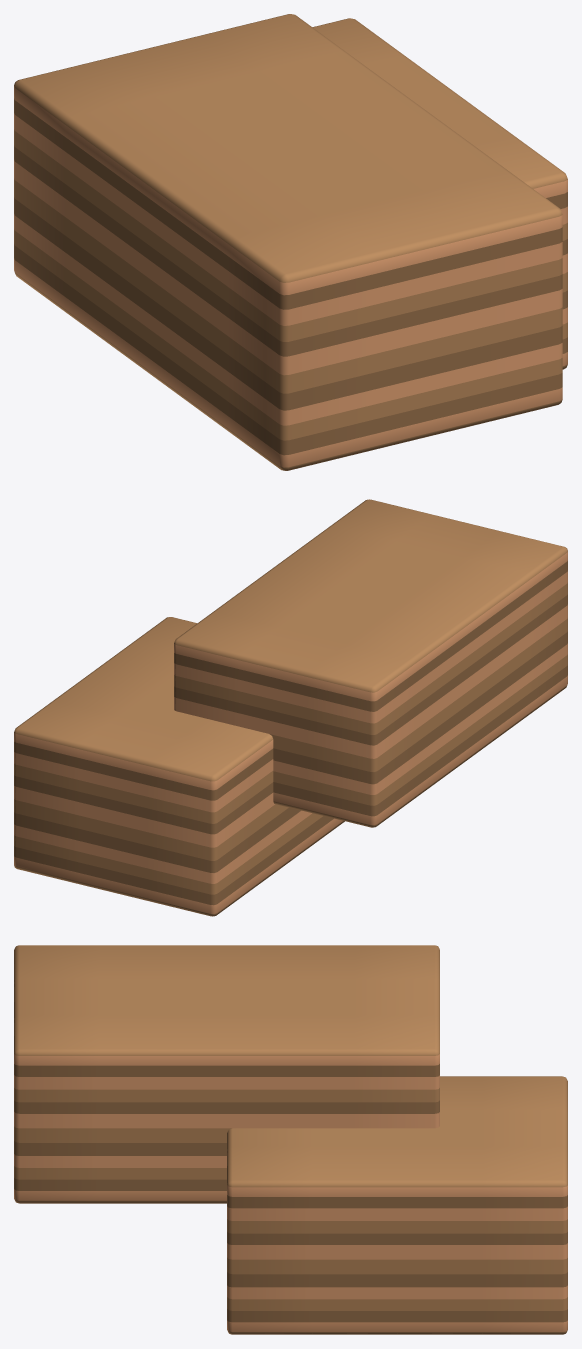
The model's file is Cube_Grass_SideBottom_Tall_044.gltf.
The picture shows the model from 3 angles, top to bottom: view 1: azimuth 30°, elevation 25°; view 2: azimuth 150°, elevation 25°; view 3: azimuth 270°, elevation 25°; orthographic projection. The views are drawn at different scales.
Parts seen in each view (by area): view 1: Cube_Grass_SideBottom_Tall.044; view 2: Cube_Grass_SideBottom_Tall.044; view 3: Cube_Grass_SideBottom_Tall.044.
Part boxes in pixels (x1,y1,x2,y2): Cube_Grass_SideBottom_Tall.044: (14, 14, 567, 470); Cube_Grass_SideBottom_Tall.044: (14, 499, 567, 916); Cube_Grass_SideBottom_Tall.044: (14, 945, 567, 1334).
Size of the model in its own units: 9 by 6 by 13.
